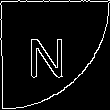N_N: (35, 30, 75, 80)
